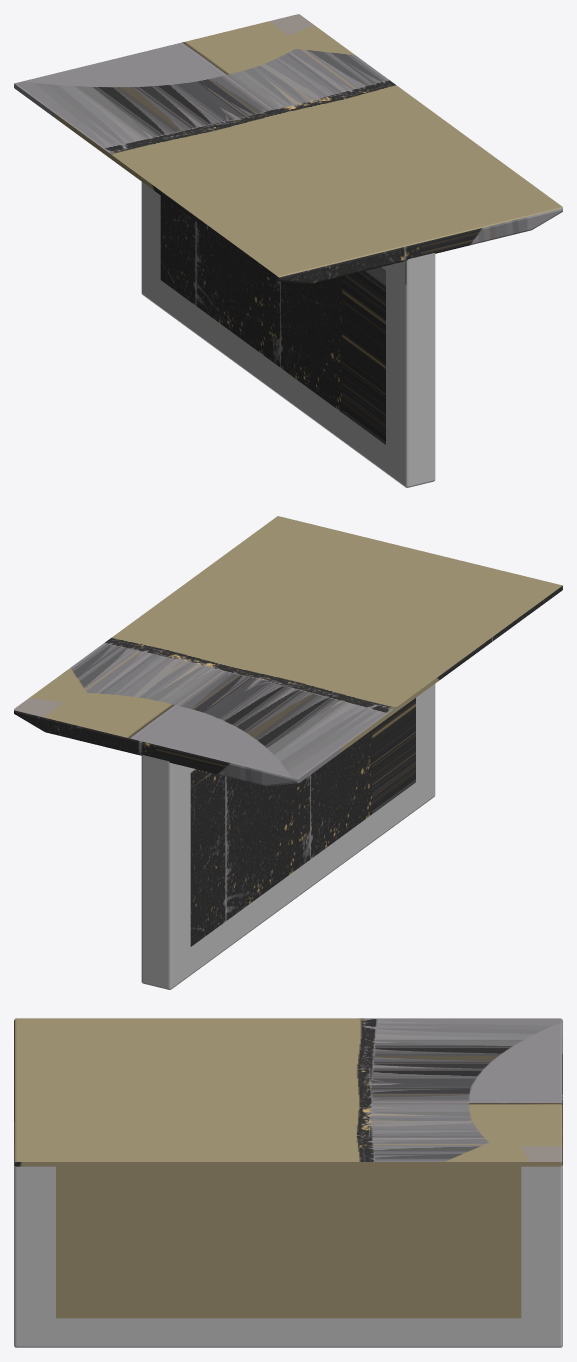
The model's file is notausgang.obj.
3 renders of one model, top to bottom at view 1: azimuth 30°, elevation 25°; view 2: azimuth 150°, elevation 25°; view 3: azimuth 270°, elevation 25°, orthographic. The views are drawn at different scales.
Visible parts, largest first — view 1: Cube_Cube.015; view 2: Cube_Cube.015; view 3: Cube_Cube.015.
Part boxes in pixels (x1,y1,x2,y2): Cube_Cube.015: (14, 14, 562, 487); Cube_Cube.015: (14, 516, 562, 989); Cube_Cube.015: (14, 1018, 562, 1347).
Size of the model in its own units: 3.79 by 3.09 by 6.12.
